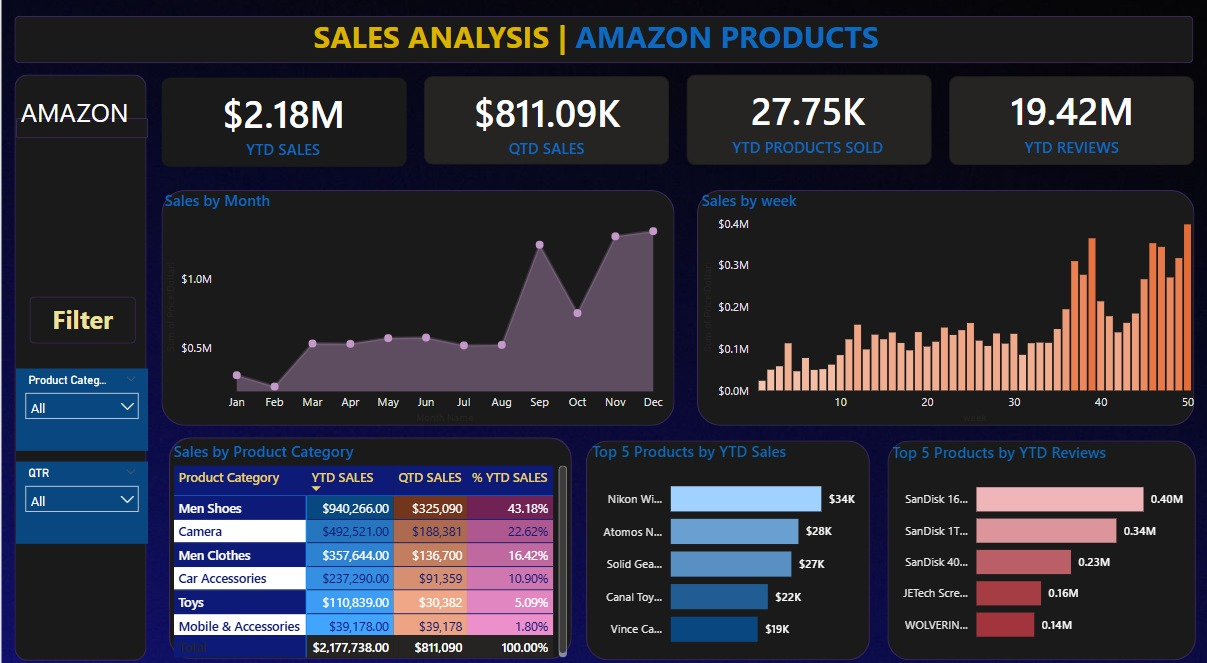

This screenshot's page, from the dashboard's own definition file:
{"tool":"powerbi","page":{"name":"Page 1","canvas":[1280,720],"ordinal":0},"visuals":[{"type":"shape","box":[15,21.7,1250,50],"z":0},{"type":"textbox","box":[326.7,16.7,625,55],"z":1000},{"type":"shape","box":[15,85,140,621.7],"z":2000},{"type":"shape","box":[170,87.7,260,94.6],"z":3000},{"type":"card","fields":{"Values":["Amazon_Data.YTD SALES"]},"box":[169.2,86.9,260.8,95.4],"z":4000},{"type":"shape","box":[448,86,260,94],"z":5000},{"type":"shape","box":[726.9,84,260,96],"z":6000},{"type":"shape","box":[1005.4,85.4,260,94.6],"z":7000},{"type":"card","fields":{"Values":["Amazon_Data.QTD SALES"]},"box":[448,86,260,96],"z":8000},{"type":"card","fields":{"Values":["Amazon_Data.YTD REVIEWS"]},"box":[1006,84,260,96],"z":9000},{"type":"card","fields":{"Values":["Amazon_Data.YTD PRODUCTS SOLD"]},"box":[726,84,260,96],"z":10000},{"type":"shape","box":[170,206,544,250],"z":11000},{"type":"stackedAreaChart","title":"Sales by Month","fields":{"Category":["Date Table.Month Name"],"Y":["Sum(Amazon_Data.Price(Dollar))"]},"box":[168.8,206.2,543.8,251.2],"z":12000},{"type":"shape","box":[738.8,206.2,527.5,250],"z":13000},{"type":"shape","box":[178,470,427,223],"z":14000},{"type":"shape","box":[621,472,301,233],"z":15000},{"type":"shape","box":[178,470,427,235],"z":16000},{"type":"columnChart","title":"Sales by week","fields":{"Category":["Date Table.week"],"Y":["Sum(Amazon_Data.Price(Dollar))"]},"box":[738.8,207.5,532.5,251.2],"z":17000},{"type":"pivotTable","title":"Sales by Product Category","fields":{"Rows":["Amazon_Data.Product Category"],"Values":["Amazon_Data.YTD SALES1","Amazon_Data.QTD SALES","Amazon_Data.YTD SALES"]},"box":[178,472,427,235],"z":18000},{"type":"shape","box":[940,472,327,233],"z":19000},{"type":"clusteredBarChart","title":"Top 5 Products by YTD Sales","fields":{"Category":["Amazon_Data.Product Description"],"Y":["Amazon_Data.YTD SALES"]},"box":[622,472,300,233],"z":20000},{"type":"clusteredBarChart","title":"Top 5 Products by YTD Reviews","fields":{"Category":["Amazon_Data.Product Description"],"Y":["Amazon_Data.YTD REVIEWS"]},"box":[940,474.6,325.4,225.4],"z":21000},{"type":"slicer","fields":{"Values":["Amazon_Data.Product Category"]},"box":[15.7,395.7,140,87.1],"z":22000},{"type":"slicer","fields":{"Values":["Date Table.QTR"]},"box":[15.7,494.3,140,87.1],"z":23000},{"type":"shape","box":[30,320,112.9,50],"z":24000},{"type":"textbox","box":[30,320,112.9,50],"z":25000},{"type":"shape","box":[15.7,130,140,21.4],"z":26000},{"type":"textbox","box":[15.7,100,140,51.4],"z":27000}]}

Visuals, with their boxes in screenshot pixels (x1, y1, x2, y2), scaled from the page's 1280x720 canvas onto the 1207x663 screenshot:
shape: box=[14, 20, 1193, 66]
textbox: box=[308, 15, 897, 66]
shape: box=[14, 78, 146, 651]
shape: box=[160, 81, 405, 168]
card - Amazon_Data.YTD SALES: box=[160, 80, 405, 168]
shape: box=[422, 79, 668, 166]
shape: box=[685, 77, 931, 166]
shape: box=[948, 79, 1193, 166]
card - Amazon_Data.QTD SALES: box=[422, 79, 668, 168]
card - Amazon_Data.YTD REVIEWS: box=[949, 77, 1194, 166]
card - Amazon_Data.YTD PRODUCTS SOLD: box=[685, 77, 930, 166]
shape: box=[160, 190, 673, 420]
"Sales by Month" stackedAreaChart: box=[159, 190, 672, 421]
shape: box=[697, 190, 1194, 420]
shape: box=[168, 433, 570, 638]
shape: box=[586, 435, 869, 649]
shape: box=[168, 433, 570, 649]
"Sales by week" columnChart: box=[697, 191, 1199, 422]
"Sales by Product Category" pivotTable: box=[168, 435, 570, 651]
shape: box=[886, 435, 1195, 649]
"Top 5 Products by YTD Sales" clusteredBarChart: box=[587, 435, 869, 649]
"Top 5 Products by YTD Reviews" clusteredBarChart: box=[886, 437, 1193, 645]
slicer - Amazon_Data.Product Category: box=[15, 364, 147, 445]
slicer - Date Table.QTR: box=[15, 455, 147, 535]
shape: box=[28, 295, 135, 341]
textbox: box=[28, 295, 135, 341]
shape: box=[15, 120, 147, 139]
textbox: box=[15, 92, 147, 139]
